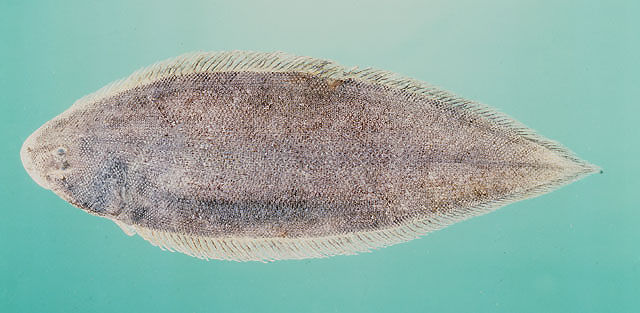fish: (19, 51, 605, 263)
